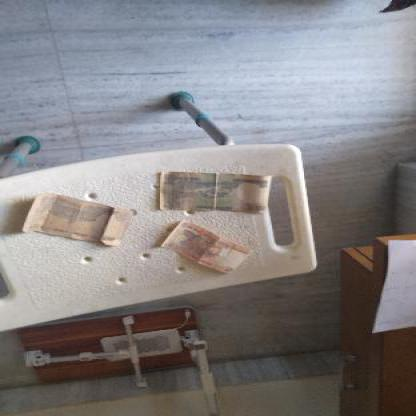Old100Back: (156, 174, 272, 214)
Old10Back: (162, 223, 251, 274)
Old50Back: (17, 198, 135, 246)
